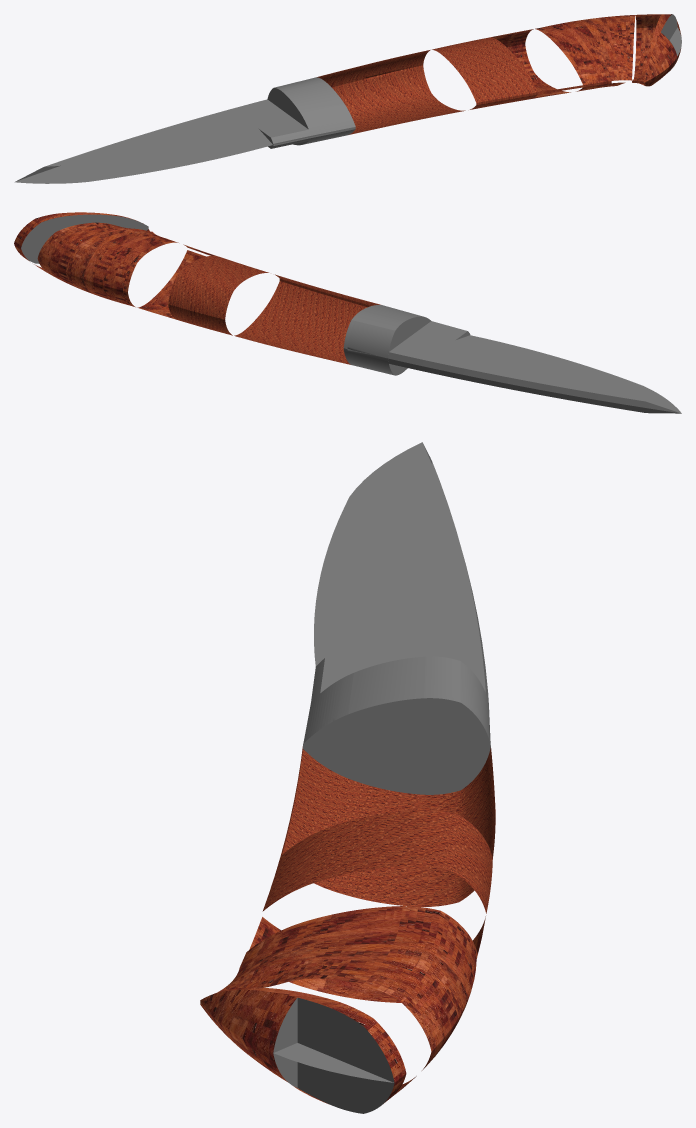
The model's file is knife.glb.
The picture shows the model from 3 angles, top to bottom: view 1: azimuth 30°, elevation 25°; view 2: azimuth 150°, elevation 25°; view 3: azimuth 270°, elevation 25°; orthographic projection. The views are drawn at different scales.
Parts seen in each view (by area): view 1: ½kniv (×2); view 2: ½kniv (×2); view 3: ½kniv (×2).
Part boxes in pixels (x1=…): ½kniv (×2): x1=14, y1=14, x2=681, y2=183; ½kniv (×2): x1=14, y1=212, x2=681, y2=413; ½kniv (×2): x1=200, y1=442, x2=495, y2=1113.
Size of the model in its own units: 0.1829 by 0.0129 by 0.0356.
3 materials, 1 textured.
